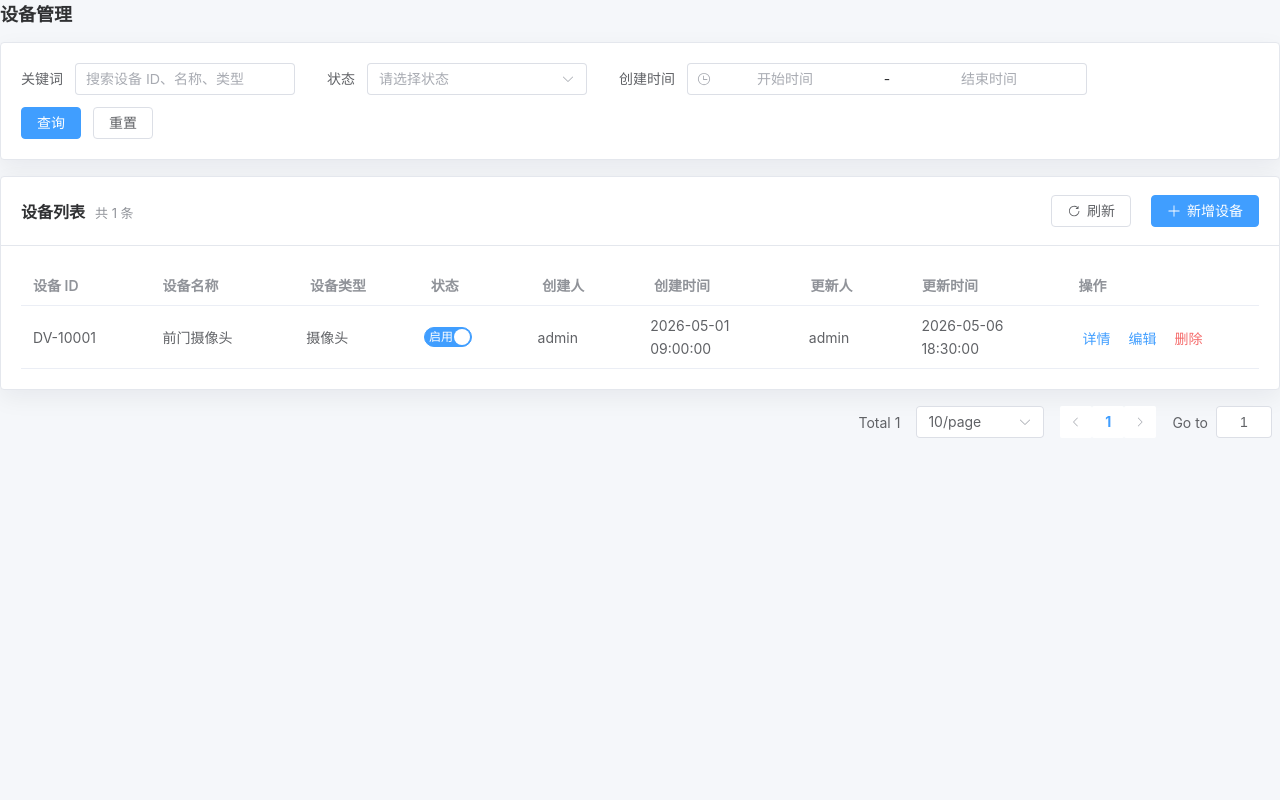
Scenario: device management page › renders detail drawer from row data when detail permission is granted
The width and height of the screenshot is (1280, 800).
Click the button "详情". click: (1097, 339)
box: [1080,329,1114,349]
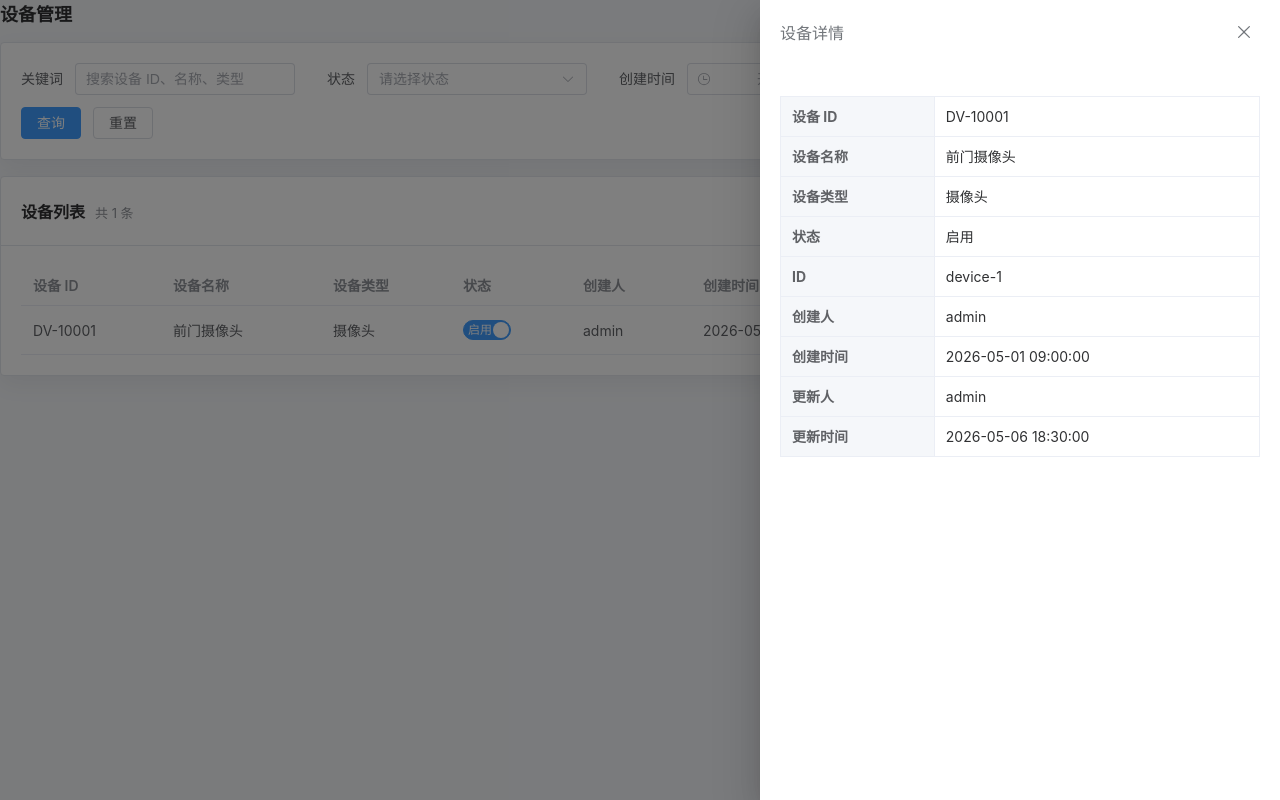
expect the text "DV-10001" is shown: met, box [33,322,96,338]
expect the text "设备详情" is shown: met, box [780,23,844,43]
